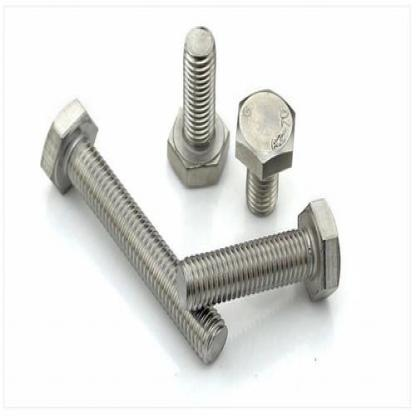FOD: (41, 97, 230, 368), (176, 196, 341, 313), (166, 27, 232, 191), (233, 88, 300, 216)
